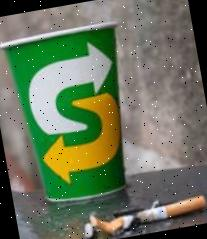paper: (0, 19, 146, 210)
